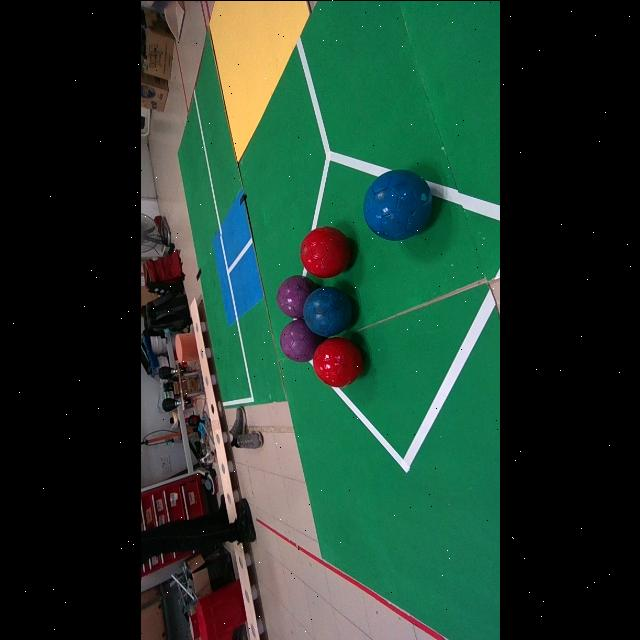B: (363, 169, 432, 240), (304, 286, 352, 334)
P: (279, 319, 324, 362), (276, 275, 318, 317)
R: (300, 226, 351, 277), (313, 337, 363, 386)
